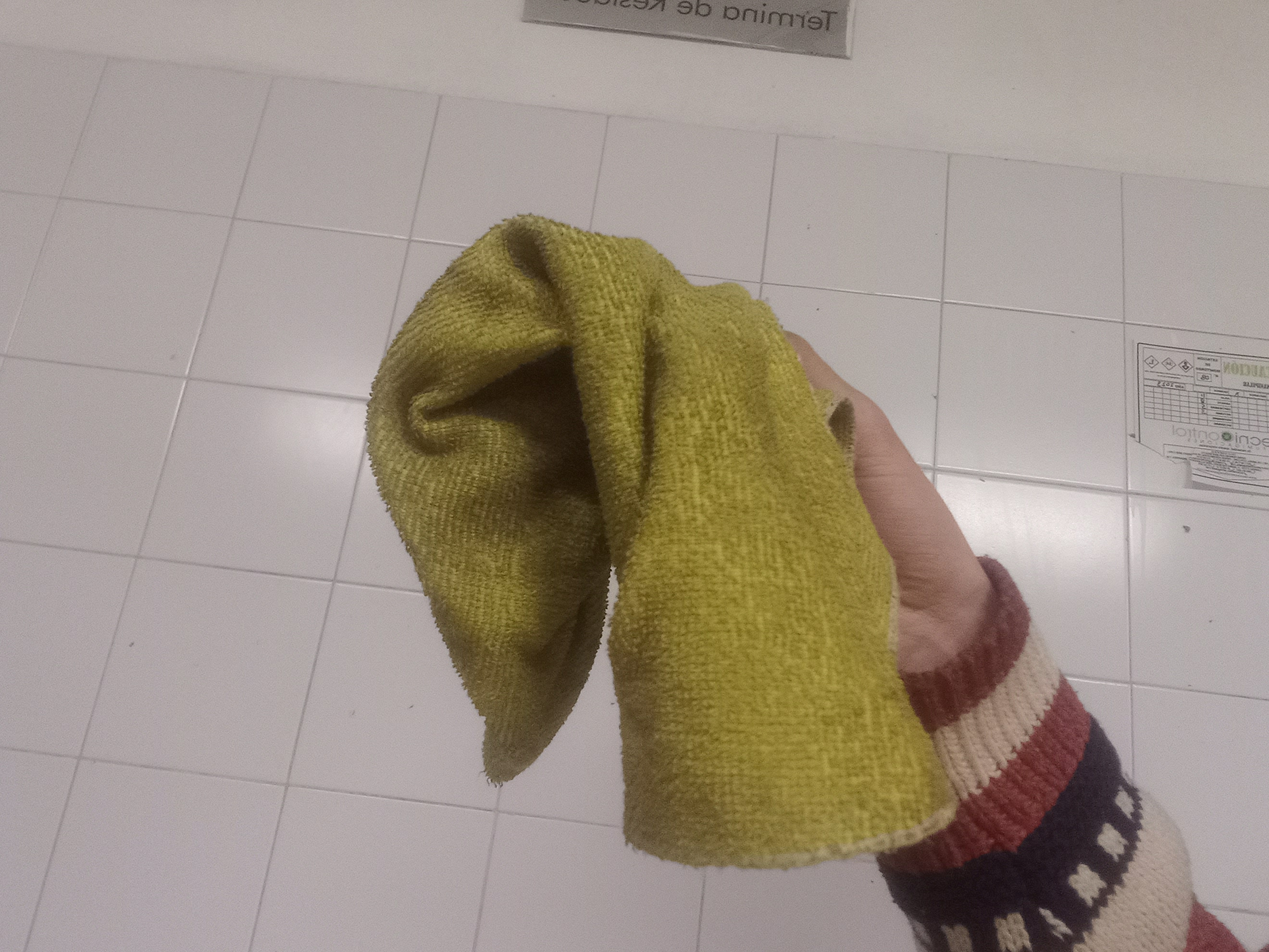Ordinario: (362, 215, 964, 872)
